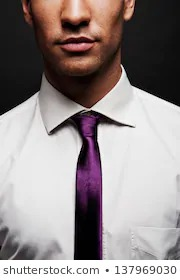F_shirt: (1, 71, 180, 259)
F_tie: (71, 107, 105, 260)
